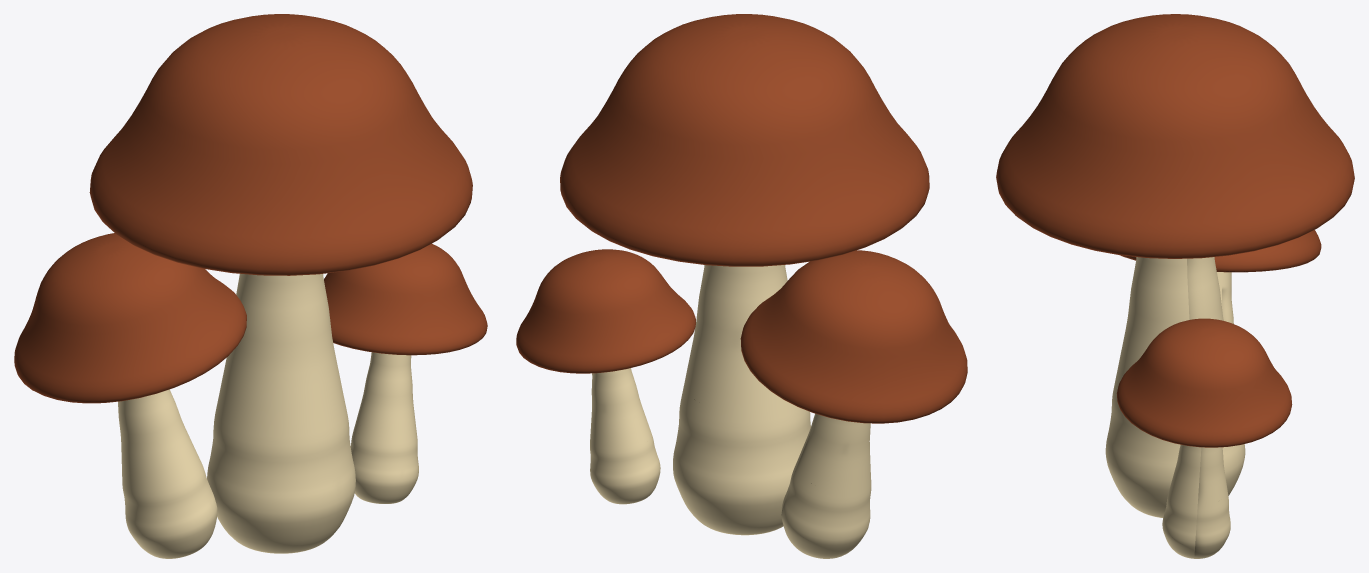
File: shroom.glb
The picture shows the model from 3 angles, left to right: view 1: azimuth 30°, elevation 25°; view 2: azimuth 150°, elevation 25°; view 3: azimuth 270°, elevation 25°; orthographic projection. The views are drawn at different scales.
Visible parts, largest first — view 1: Mushroom_model; view 2: Mushroom_model; view 3: Mushroom_model.
Part boxes in pixels (<box>): Mushroom_model: <box>14,14,487,558</box>; Mushroom_model: <box>516,14,967,558</box>; Mushroom_model: <box>996,14,1354,558</box>.
Size of the model in its own units: 11.12 by 12.08 by 8.36.
3 materials, 3 textured.
